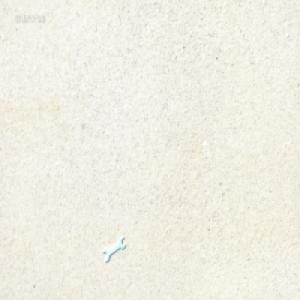Wrench: (103, 233, 126, 262)
